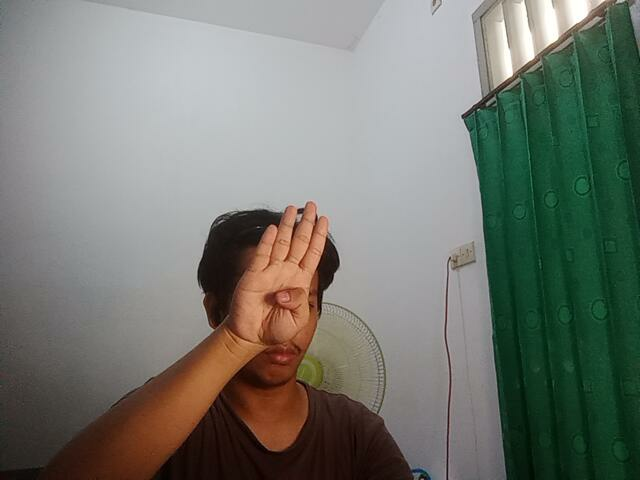B: (233, 192, 332, 349)
